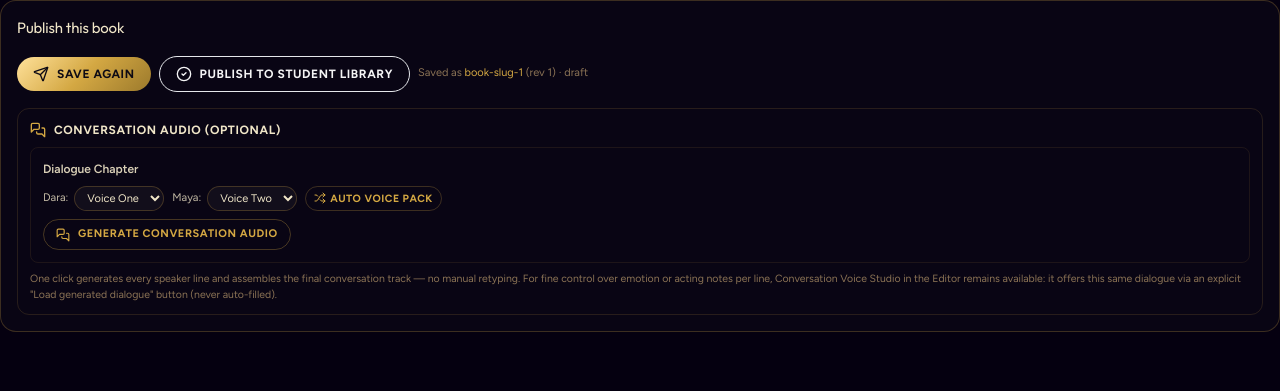
Test: one click drives init, generates every line, then assembles
Expected: the element with test id "bf-conversation-panel" is shown, [17,108,1263,315]
Click the button with test id "bf-generate-conversation-c1".
click(167, 235)  # box [43,219,291,250]
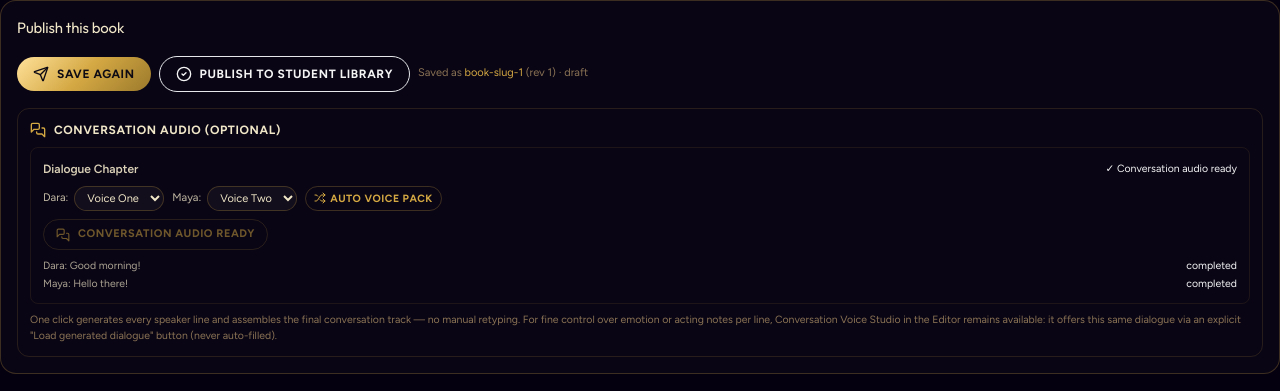
Result: the text "✓ Conversation audio ready" is shown at [1106,161,1237,176]
